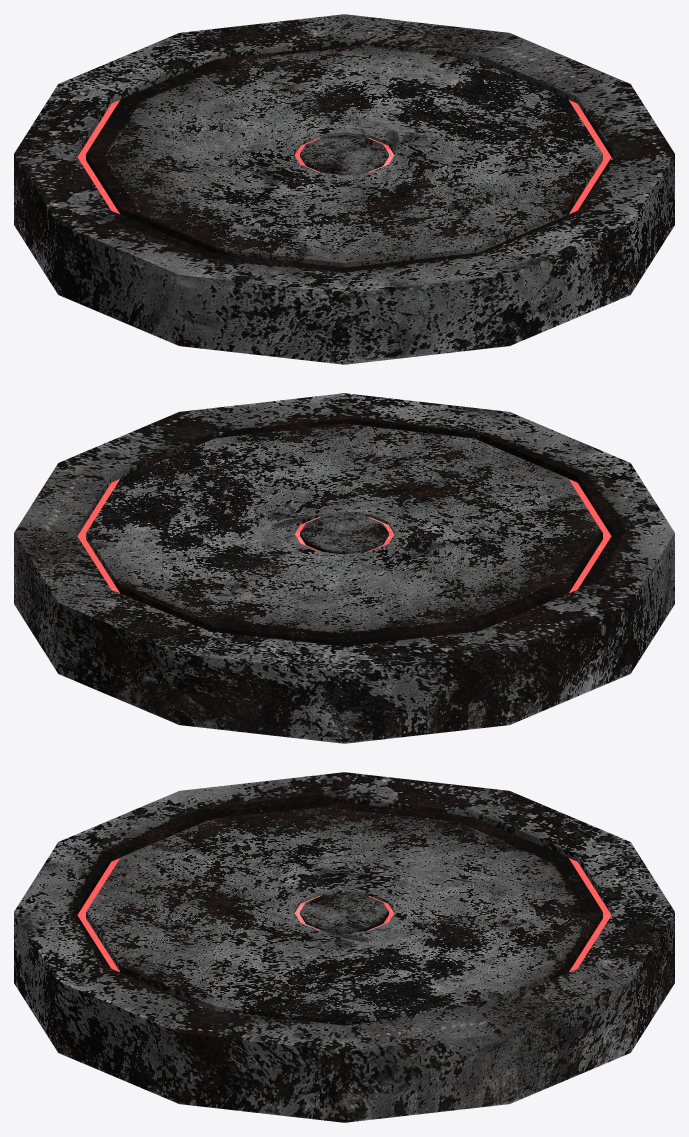
Rendered from fireSurface_Cylinder.fbx.
The picture shows the model from 3 angles, top to bottom: view 1: azimuth 30°, elevation 25°; view 2: azimuth 150°, elevation 25°; view 3: azimuth 270°, elevation 25°; orthographic projection.
Visible parts, largest first — view 1: fireSurface_Cylinder; view 2: fireSurface_Cylinder; view 3: fireSurface_Cylinder.
Part boxes in pixels (bbox=[...]): fireSurface_Cylinder: bbox=[14, 14, 674, 364]; fireSurface_Cylinder: bbox=[14, 393, 674, 743]; fireSurface_Cylinder: bbox=[14, 772, 674, 1122].
Size of the model in its own units: 97.46 by 11.6 by 97.46.
